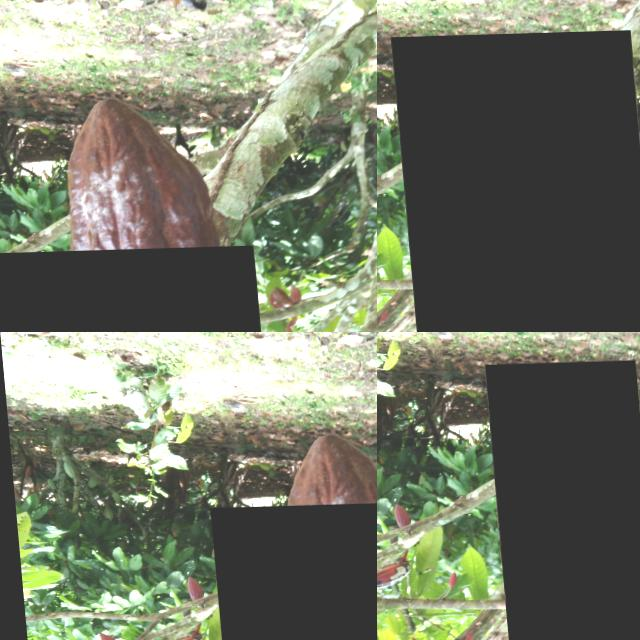Fitoftora: (481, 363, 640, 640), (0, 248, 259, 332)
Monilia: (387, 33, 640, 332), (206, 504, 377, 640), (377, 562, 412, 591)
Sana: (384, 503, 408, 528)
